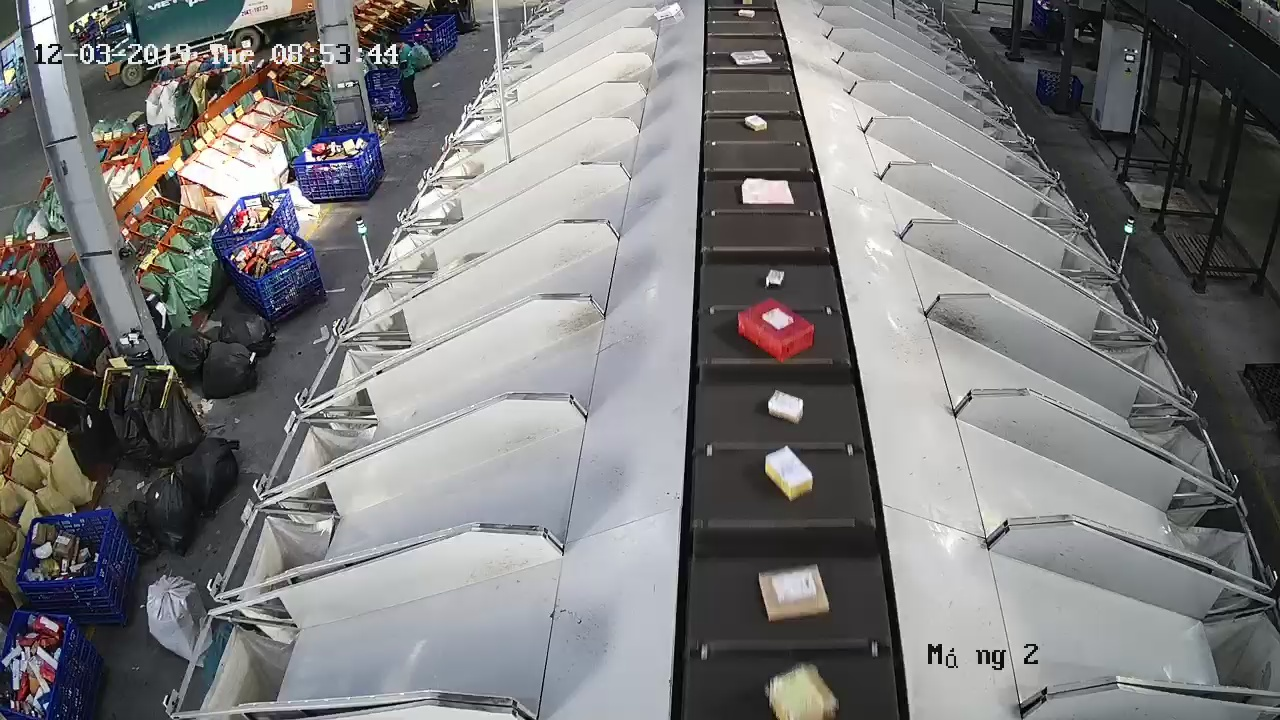parcel: (766, 388, 805, 426), (765, 268, 785, 289)
